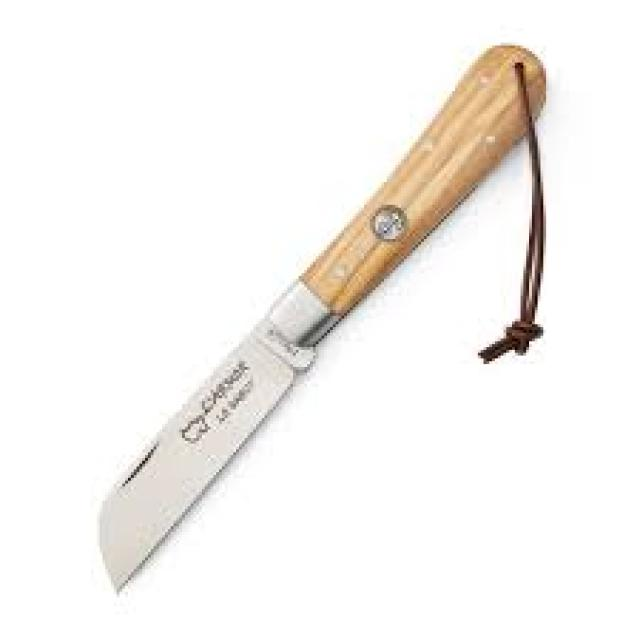knives: (91, 37, 552, 597)
